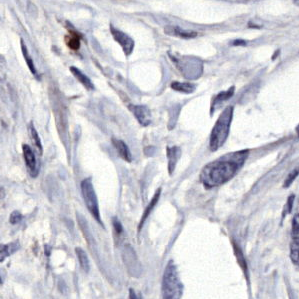Lymphocyte: (63, 28, 83, 50)
